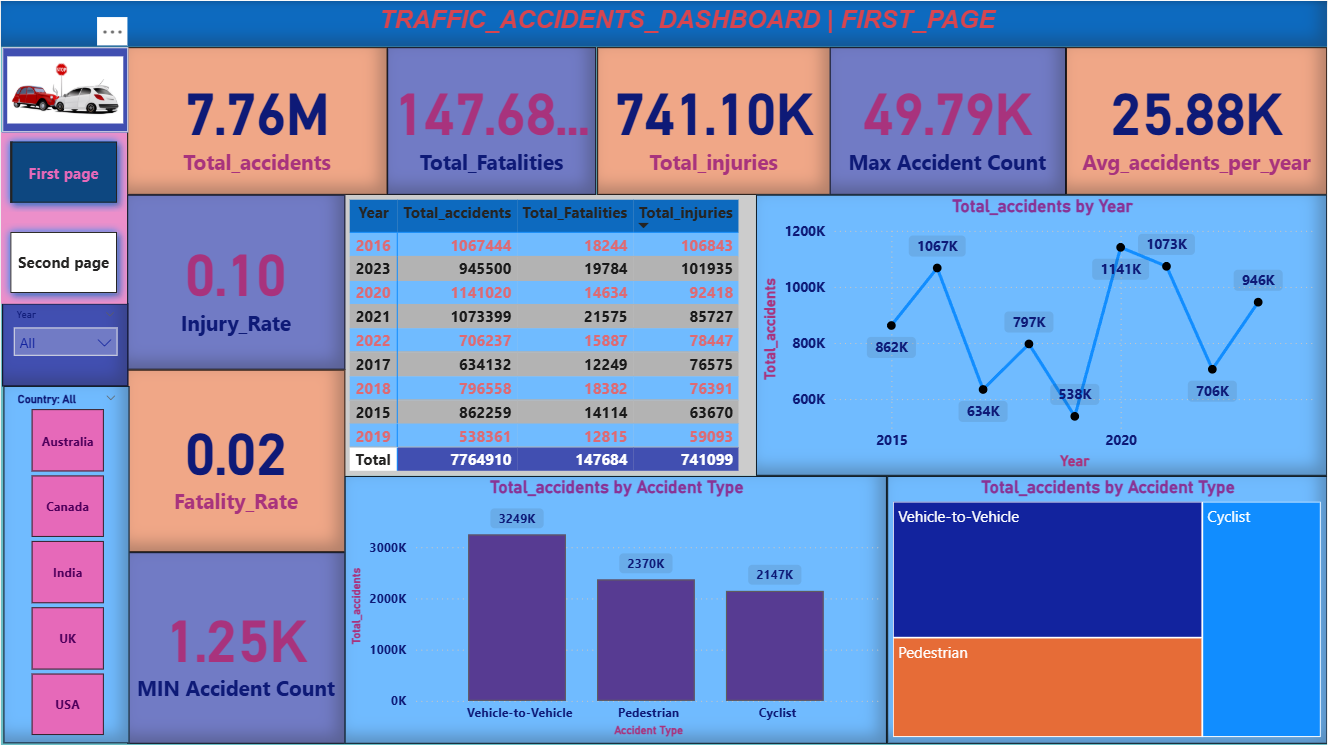

The dashboard page shown, as its layout file describes it:
{"tool":"powerbi","page":{"name":"First page","canvas":[1280,720],"ordinal":0},"visuals":[{"type":"pivotTable","fields":{"Rows":["traffic_accidents.Year"],"Values":["traffic_accidents.Total_accidents","traffic_accidents.Total_Fatalities","traffic_accidents.Total_injuries"]},"box":[331.8,187,396.9,271.4],"z":0},{"type":"treemap","fields":{"Values":["traffic_accidents.Total_accidents"],"Group":["traffic_accidents.Accident Type"]},"box":[855.4,458.4,424.7,258.2],"z":1000},{"type":"card","fields":{"Values":["traffic_accidents.Total_accidents"]},"box":[121.9,44.3,251.1,142.8],"z":2000},{"type":"card","fields":{"Values":["traffic_accidents.Total_Fatalities"]},"box":[373,44.3,201.9,142.8],"z":3000},{"type":"card","fields":{"Values":["traffic_accidents.Total_injuries"]},"box":[574.9,44.3,225.3,142.8],"z":4000},{"type":"card","fields":{"Values":["traffic_accidents.Injury_Rate"]},"box":[121.9,187.1,210.5,168.6],"z":5000},{"type":"card","fields":{"Values":["traffic_accidents.Fatality_Rate"]},"box":[121.9,355.8,210.5,176],"z":6000},{"type":"card","fields":{"Values":["traffic_accidents.Avg_accidents_per_year"]},"box":[1027.9,44.3,252.4,142.8],"z":7000},{"type":"card","fields":{"Values":["traffic_accidents.Max Accident Count"]},"box":[800.2,44.3,227.7,142.8],"z":8000},{"type":"card","fields":{"Values":["traffic_accidents.MIN Accident Count"]},"box":[121.9,531.8,210.5,184.7],"z":9000},{"type":"slicer","fields":{"Values":["traffic_accidents.Year"]},"box":[1.2,292,121.9,79.6],"z":10000},{"type":"textbox","box":[0,0,1280.3,44.3],"z":11000},{"type":"slicer","fields":{"Values":["traffic_accidents.Country"]},"box":[2.4,371.6,121.9,345],"z":12000},{"type":"columnChart","fields":{"Category":["traffic_accidents.Accident Type"],"Y":["traffic_accidents.Total_accidents"]},"box":[331.8,458.4,523.6,258.2],"z":13000},{"type":"lineChart","fields":{"Category":["traffic_accidents.Year"],"Y":["traffic_accidents.Total_accidents"]},"box":[728.7,187,551.3,271.4],"z":14000},{"type":"pageNavigator","box":[0,126.7,121.9,165.3],"z":15000},{"type":"image","box":[1.2,44.6,121.9,82],"z":16000}]}

Visuals, with their boxes on the page's 1280x720 design canvas (x1, y1, x2, y2). These are canvas units, not pixel positions in the 1328x745 screenshot, which may show the page scaled, cropped or inside an application window:
pivotTable - traffic_accidents.Year x traffic_accidents.Total_accidents: l=332, t=187, r=729, b=458
treemap - traffic_accidents.Total_accidents x traffic_accidents.Accident Type: l=855, t=458, r=1280, b=717
card - traffic_accidents.Total_accidents: l=122, t=44, r=373, b=187
card - traffic_accidents.Total_Fatalities: l=373, t=44, r=575, b=187
card - traffic_accidents.Total_injuries: l=575, t=44, r=800, b=187
card - traffic_accidents.Injury_Rate: l=122, t=187, r=332, b=356
card - traffic_accidents.Fatality_Rate: l=122, t=356, r=332, b=532
card - traffic_accidents.Avg_accidents_per_year: l=1028, t=44, r=1280, b=187
card - traffic_accidents.Max Accident Count: l=800, t=44, r=1028, b=187
card - traffic_accidents.MIN Accident Count: l=122, t=532, r=332, b=716
slicer - traffic_accidents.Year: l=1, t=292, r=123, b=372
textbox: l=0, t=0, r=1280, b=44
slicer - traffic_accidents.Country: l=2, t=372, r=124, b=717
columnChart - traffic_accidents.Accident Type x traffic_accidents.Total_accidents: l=332, t=458, r=855, b=717
lineChart - traffic_accidents.Year x traffic_accidents.Total_accidents: l=729, t=187, r=1280, b=458
pageNavigator: l=0, t=127, r=122, b=292
image: l=1, t=45, r=123, b=127
